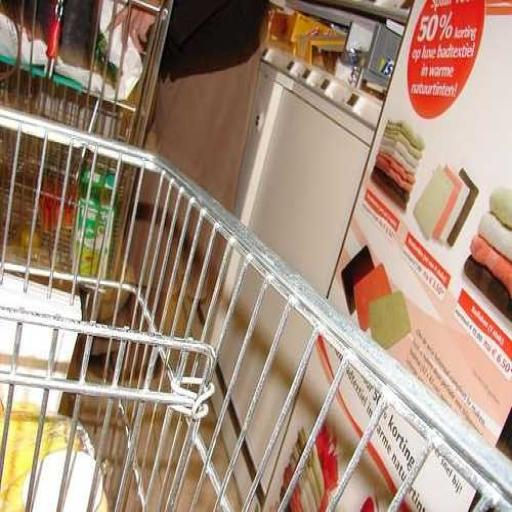shopping_cart: (0, 106, 512, 512), (0, 0, 177, 298)
